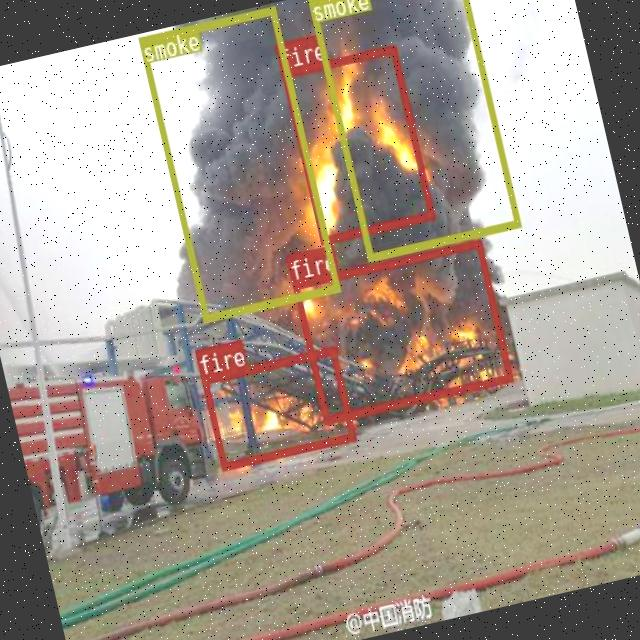fire: (290, 238, 512, 422), (280, 45, 434, 244), (199, 345, 354, 470)
smoke: (138, 4, 338, 320), (306, 0, 519, 261)
